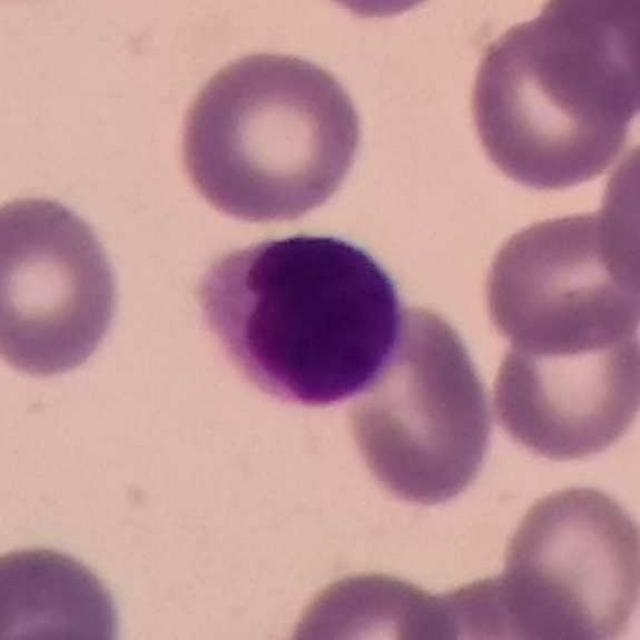Lymphocyte: (187, 220, 413, 416)
RBC: (170, 41, 371, 229), (337, 296, 499, 512), (461, 8, 635, 195), (475, 202, 640, 358), (0, 186, 129, 384), (484, 303, 639, 467), (495, 476, 639, 640), (276, 562, 465, 640), (406, 566, 604, 640), (4, 536, 136, 640), (528, 0, 640, 122), (592, 129, 640, 308), (284, 0, 466, 23)
